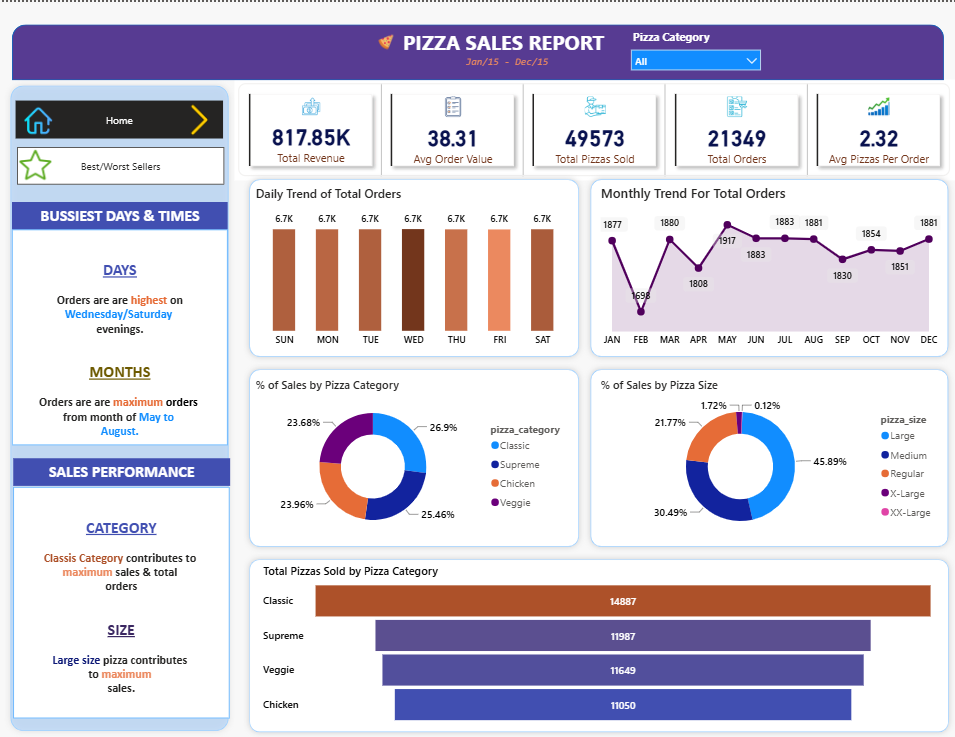

Layout of this report page (visuals, bound fields, positions):
{"tool":"powerbi","page":{"name":"Home","canvas":[1280,980],"ordinal":0},"visuals":[{"type":"shape","box":[10.3,103.8,306.4,875.6],"z":0},{"type":"cardVisual","fields":{"Data":["public pizzadatabase.Total Revenue","public pizzadatabase.Avg Order Value","public pizzadatabase.Total Pizzas Sold","public pizzadatabase.Total Orders","public pizzadatabase.Avg Pizzas Per Order"]},"box":[316.7,103.8,962.8,134.6],"z":1000},{"type":"shape","box":[20.5,29.5,1241,74.4],"z":2000},{"type":"textbox","box":[529.8,29.8,290.5,45.2],"z":3000},{"type":"textbox","box":[619,64.3,134.5,29.8],"z":4000},{"type":"image","box":[492.9,44,50,20.2],"z":5000},{"type":"shape","box":[327.5,228.8,455,252.5],"z":6000},{"type":"columnChart","title":"Daily Trend of Total Orders","fields":{"Y":["public pizzadatabase.Total Orders"],"Category":["public pizzadatabase.Order Day"]},"box":[338.8,242.5,431.2,225],"z":7000},{"type":"shape","box":[782.5,228.8,492.5,252.5],"z":8000},{"type":"areaChart","title":"Monthly Trend For Total Orders","fields":{"Category":["public pizzadatabase.Order Month"],"Y":["public pizzadatabase.Total Orders"]},"box":[798.8,242.5,462.5,225],"z":9000},{"type":"shape","box":[327.5,481.2,455,252.5],"z":10000},{"type":"shape","box":[327.5,733.8,947.5,246.2],"z":11000},{"type":"shape","box":[782.5,481.2,492.5,252.5],"z":12000},{"type":"donutChart","title":"% of Sales by Pizza Category","fields":{"Category":["public pizzadatabase.pizza_category"],"Y":["public pizzadatabase.Total Revenue"]},"box":[338.8,498.8,431.2,218.8],"z":13000},{"type":"donutChart","title":"% of Sales by Pizza Size","fields":{"Y":["public pizzadatabase.Total Revenue"],"Category":["public pizzadatabase.pizza_size"]},"box":[798.8,498.8,462.5,218.8],"z":14000},{"type":"funnel","title":"Total Pizzas Sold by Pizza Category","fields":{"Category":["public pizzadatabase.pizza_category"],"Y":["public pizzadatabase.Total Pizzas Sold"]},"box":[348.8,747.5,903.8,218.8],"z":15000},{"type":"textbox","box":[20,266.2,287.5,37.5],"z":16000},{"type":"textbox","box":[20,303.8,287.5,287.5],"z":17000},{"type":"textbox","box":[21,608,289,37],"z":18000},{"type":"textbox","box":[21,646,288,308],"z":19000},{"type":"slicer","fields":{"Values":["public pizzadatabase.pizza_category"]},"box":[834.6,32.1,193.6,69.2],"z":20000},{"type":"pageNavigator","box":[25.6,132.1,276.9,50],"z":22000},{"type":"pageNavigator","box":[26.9,192.3,276.9,50],"z":23000},{"type":"image","box":[235.9,137.2,66.7,41],"z":24000},{"type":"image","box":[35.9,134.6,37.2,46.2],"z":25000},{"type":"image","box":[30.8,188.5,42.3,57.7],"z":26000}]}

Visuals, with their boxes in screenshot pixels (x1, y1, x2, y2), scaled from the page's 1280x980 canvas onto the 955x737 screenshot:
shape: bbox=(8, 78, 236, 736)
cardVisual - public pizzadatabase.Total Revenue x public pizzadatabase.Avg Order Value: bbox=(236, 78, 954, 179)
shape: bbox=(15, 22, 941, 78)
textbox: bbox=(395, 22, 612, 56)
textbox: bbox=(462, 48, 562, 71)
image: bbox=(368, 33, 405, 48)
shape: bbox=(244, 172, 584, 362)
"Daily Trend of Total Orders" columnChart: bbox=(253, 182, 574, 352)
shape: bbox=(584, 172, 951, 362)
"Monthly Trend For Total Orders" areaChart: bbox=(596, 182, 941, 352)
shape: bbox=(244, 362, 584, 552)
shape: bbox=(244, 552, 951, 736)
shape: bbox=(584, 362, 951, 552)
"% of Sales by Pizza Category" donutChart: bbox=(253, 375, 574, 540)
"% of Sales by Pizza Size" donutChart: bbox=(596, 375, 941, 540)
"Total Pizzas Sold by Pizza Category" funnel: bbox=(260, 562, 935, 727)
textbox: bbox=(15, 200, 229, 228)
textbox: bbox=(15, 228, 229, 445)
textbox: bbox=(16, 457, 231, 485)
textbox: bbox=(16, 486, 231, 717)
slicer - public pizzadatabase.pizza_category: bbox=(623, 24, 767, 76)
pageNavigator: bbox=(19, 99, 226, 137)
pageNavigator: bbox=(20, 145, 227, 182)
image: bbox=(176, 103, 226, 134)
image: bbox=(27, 101, 55, 136)
image: bbox=(23, 142, 55, 185)
